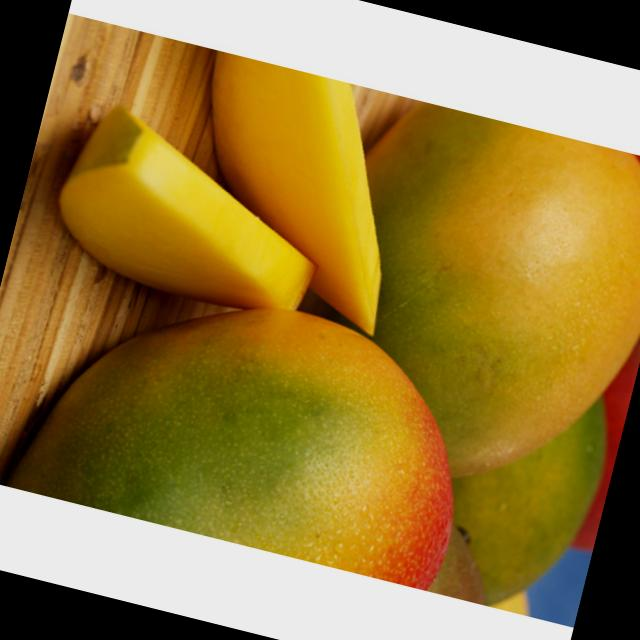mango: (1, 253, 488, 592), (301, 86, 640, 498)
